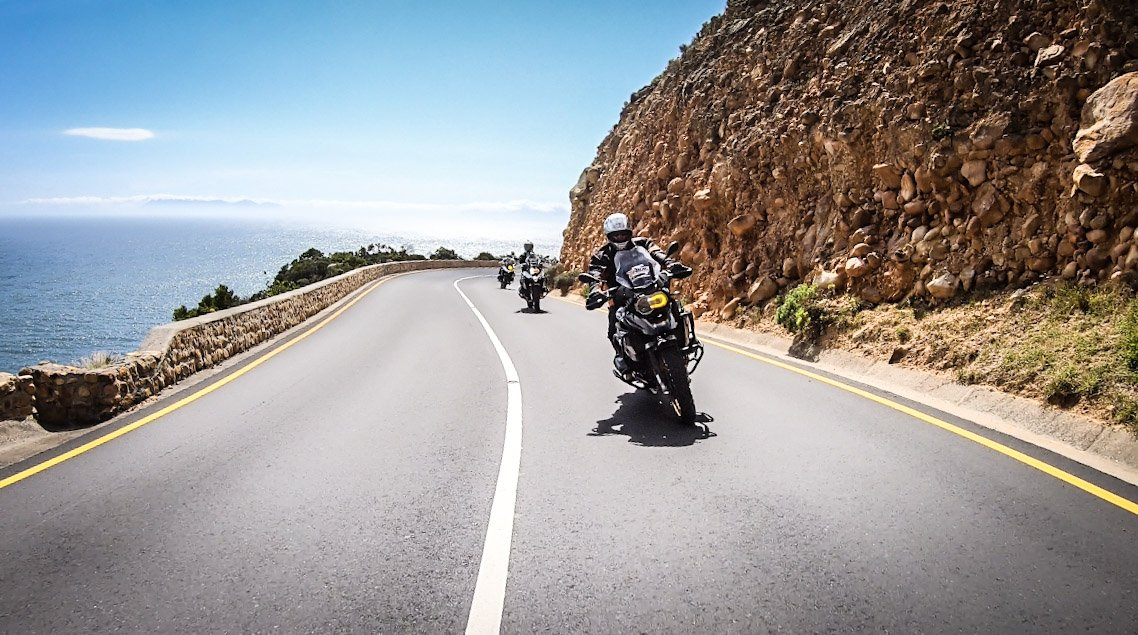Motorcycle: (581, 244, 728, 432), (512, 258, 546, 308)
